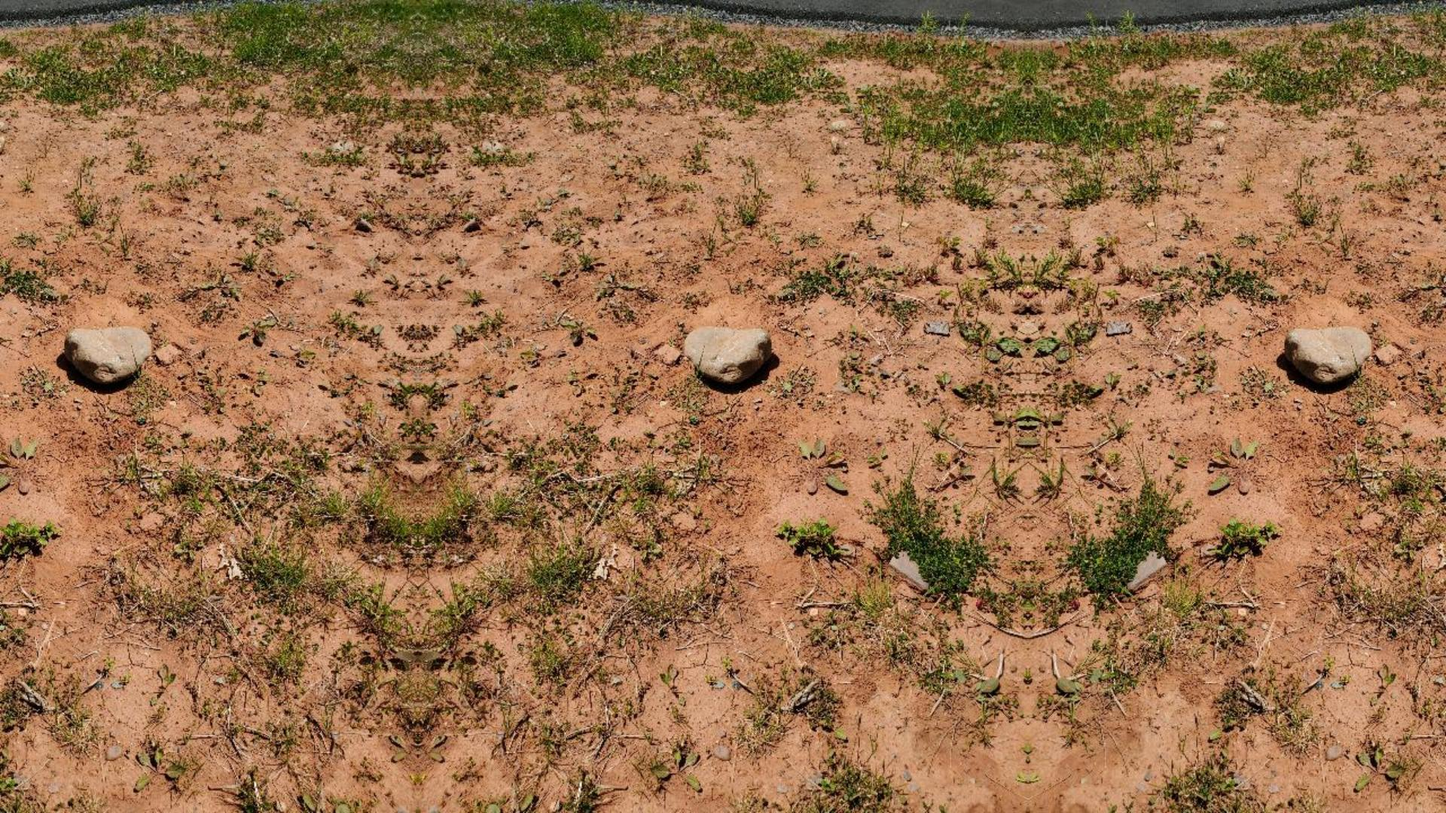rock: (64, 327, 150, 384), (683, 327, 770, 383), (1284, 327, 1370, 383)
